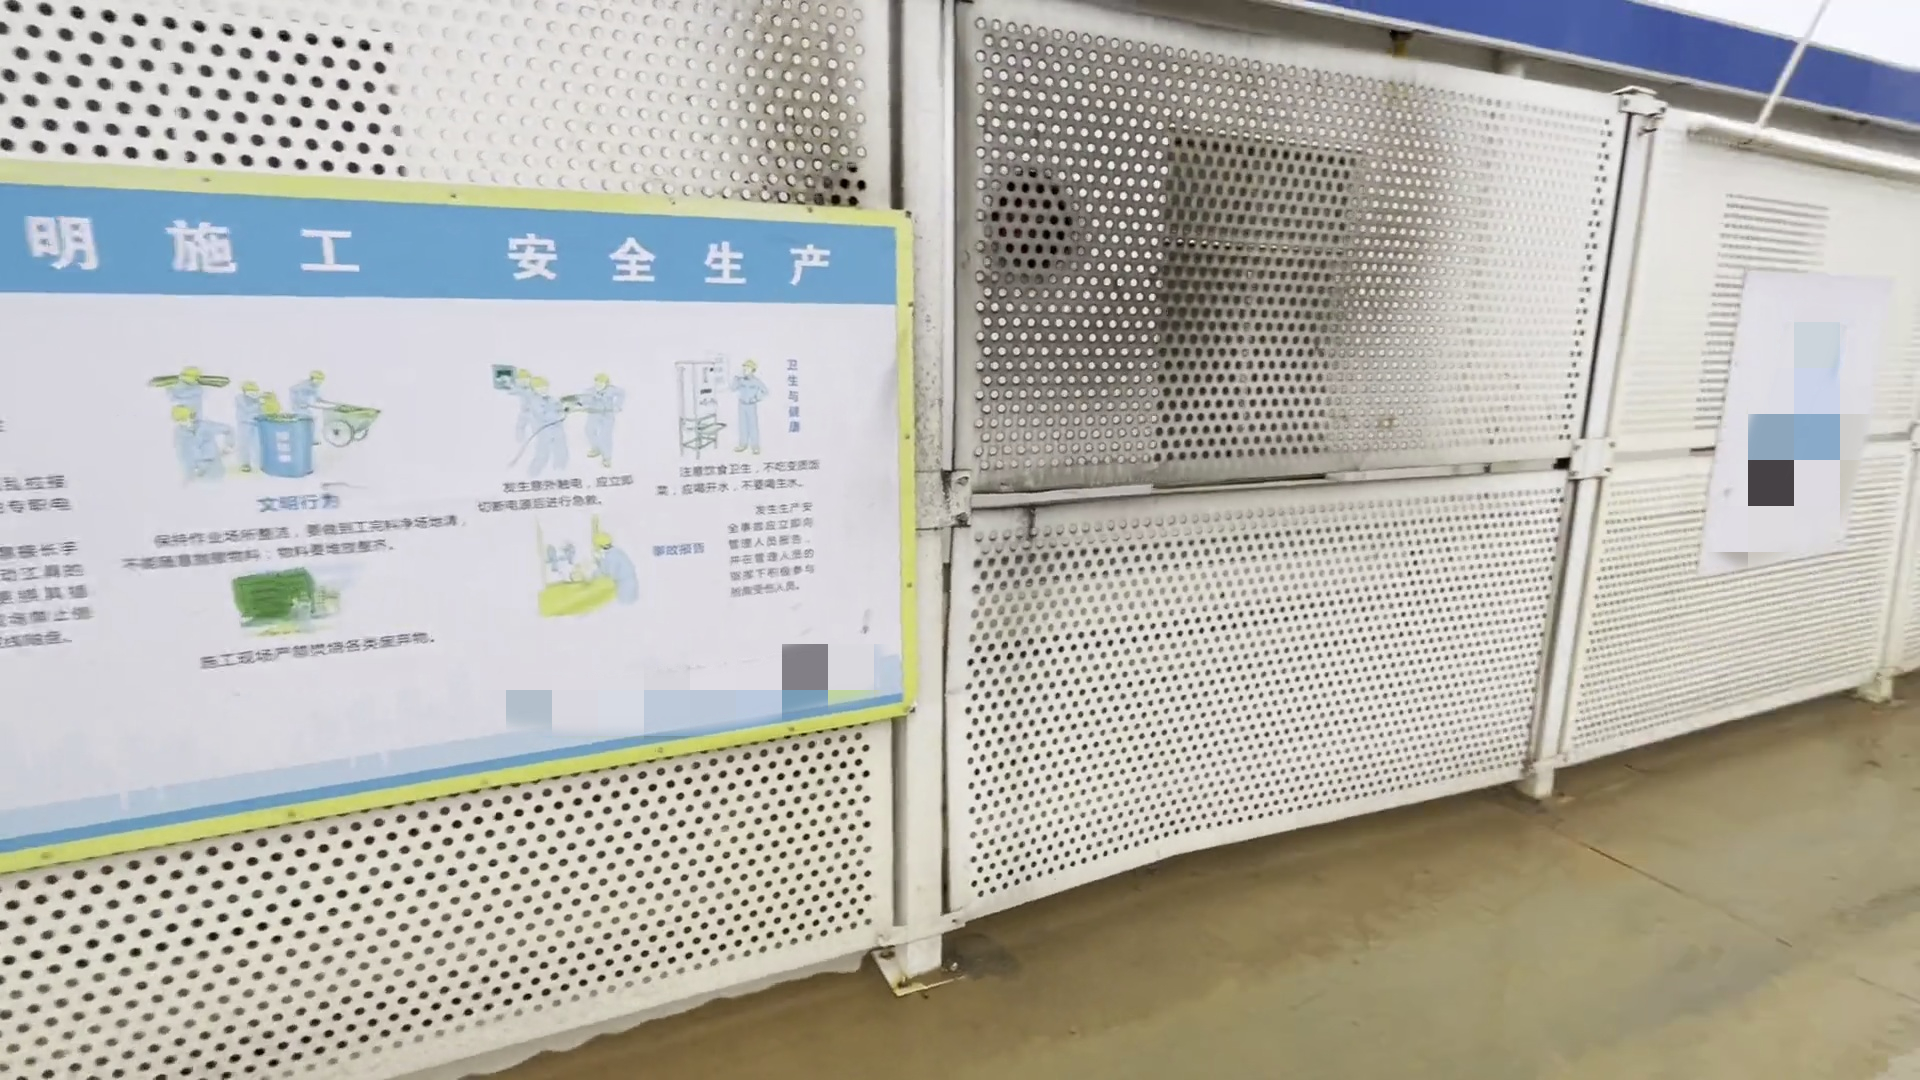slogan: (7, 142, 956, 829)
